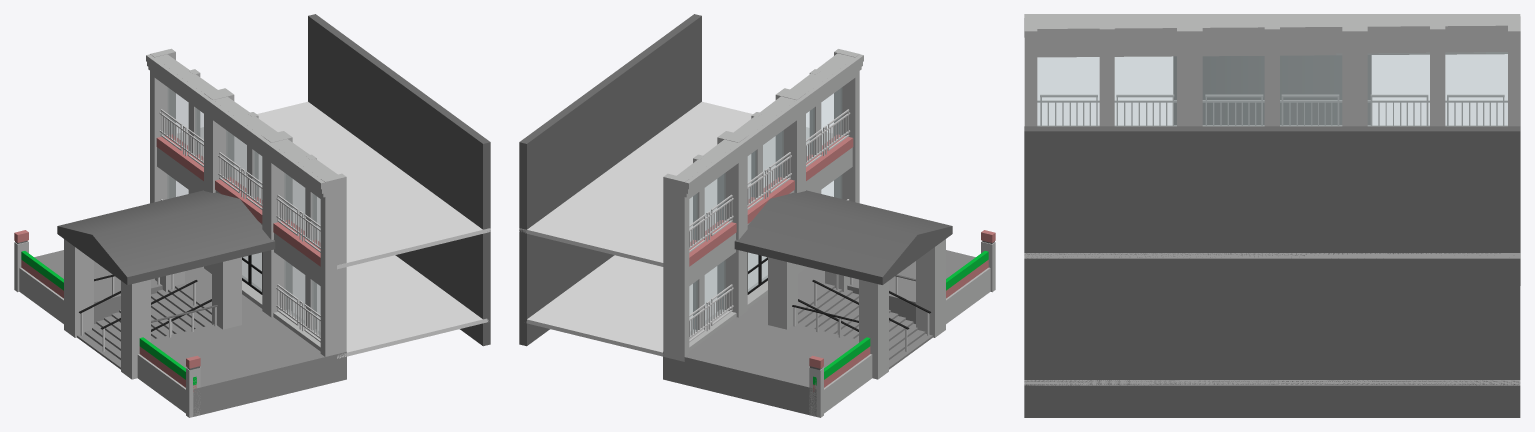
File: Edge_Ground_Recessed_Entrance.fbx
The picture shows the model from 3 angles, left to right: view 1: azimuth 30°, elevation 25°; view 2: azimuth 150°, elevation 25°; view 3: azimuth 270°, elevation 25°; orthographic projection. The views are drawn at different scales.
Parts seen in each view (by area): view 1: Walls, Inside_Floor, Inside_Wall, Outside_Floor, Entrance_Roof, Entrance_Pillars, Windows, Railings, Highlights, Hedges, StairsRailing; view 2: Walls, Inside_Floor, Inside_Wall, Outside_Floor, Entrance_Roof, Entrance_Pillars, Windows, Railings, Highlights, Hedges, StairsRailing; view 3: Inside_Wall, Walls, Windows, Entrance_Roof, Inside_Floor, Railings.
Boxes of the visible parts, x1,y1,x2,y2 form: Walls: (14, 48, 346, 417); Inside_Floor: (177, 101, 490, 358); Inside_Wall: (308, 14, 490, 346); Outside_Floor: (34, 250, 346, 416); Entrance_Roof: (57, 190, 275, 284); Entrance_Pillars: (64, 239, 241, 379); Windows: (168, 88, 320, 334); Railings: (159, 109, 320, 342); Highlights: (14, 134, 320, 391); Hedges: (21, 251, 196, 385); StairsRailing: (79, 280, 211, 331); Walls: (663, 49, 995, 417); Inside_Floor: (519, 101, 832, 356); Inside_Wall: (519, 14, 701, 346); Outside_Floor: (663, 250, 975, 416); Entrance_Roof: (734, 190, 952, 284); Entrance_Pillars: (768, 239, 945, 379); Windows: (689, 88, 841, 333); Railings: (689, 109, 850, 342); Highlights: (689, 134, 995, 391); Hedges: (813, 251, 988, 385); StairsRailing: (798, 280, 930, 331); Inside_Wall: (1024, 126, 1520, 417); Walls: (1024, 14, 1520, 285); Windows: (1037, 52, 1507, 125); Entrance_Roof: (1173, 55, 1371, 125); Inside_Floor: (1024, 253, 1520, 385); Railings: (1037, 94, 1507, 126).
Size of the model in its own units: 41 by 25.55 by 40.01.
